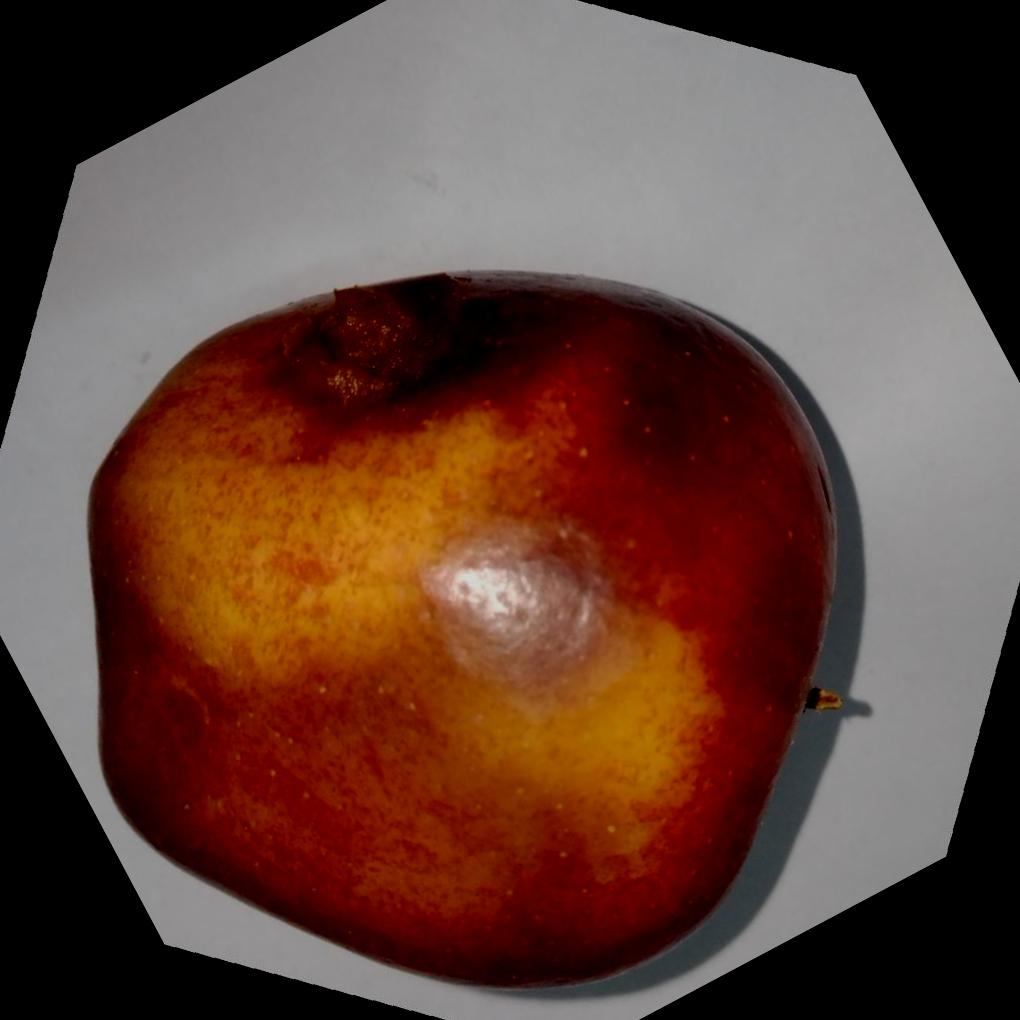FreshOrange: (84, 264, 836, 987)
